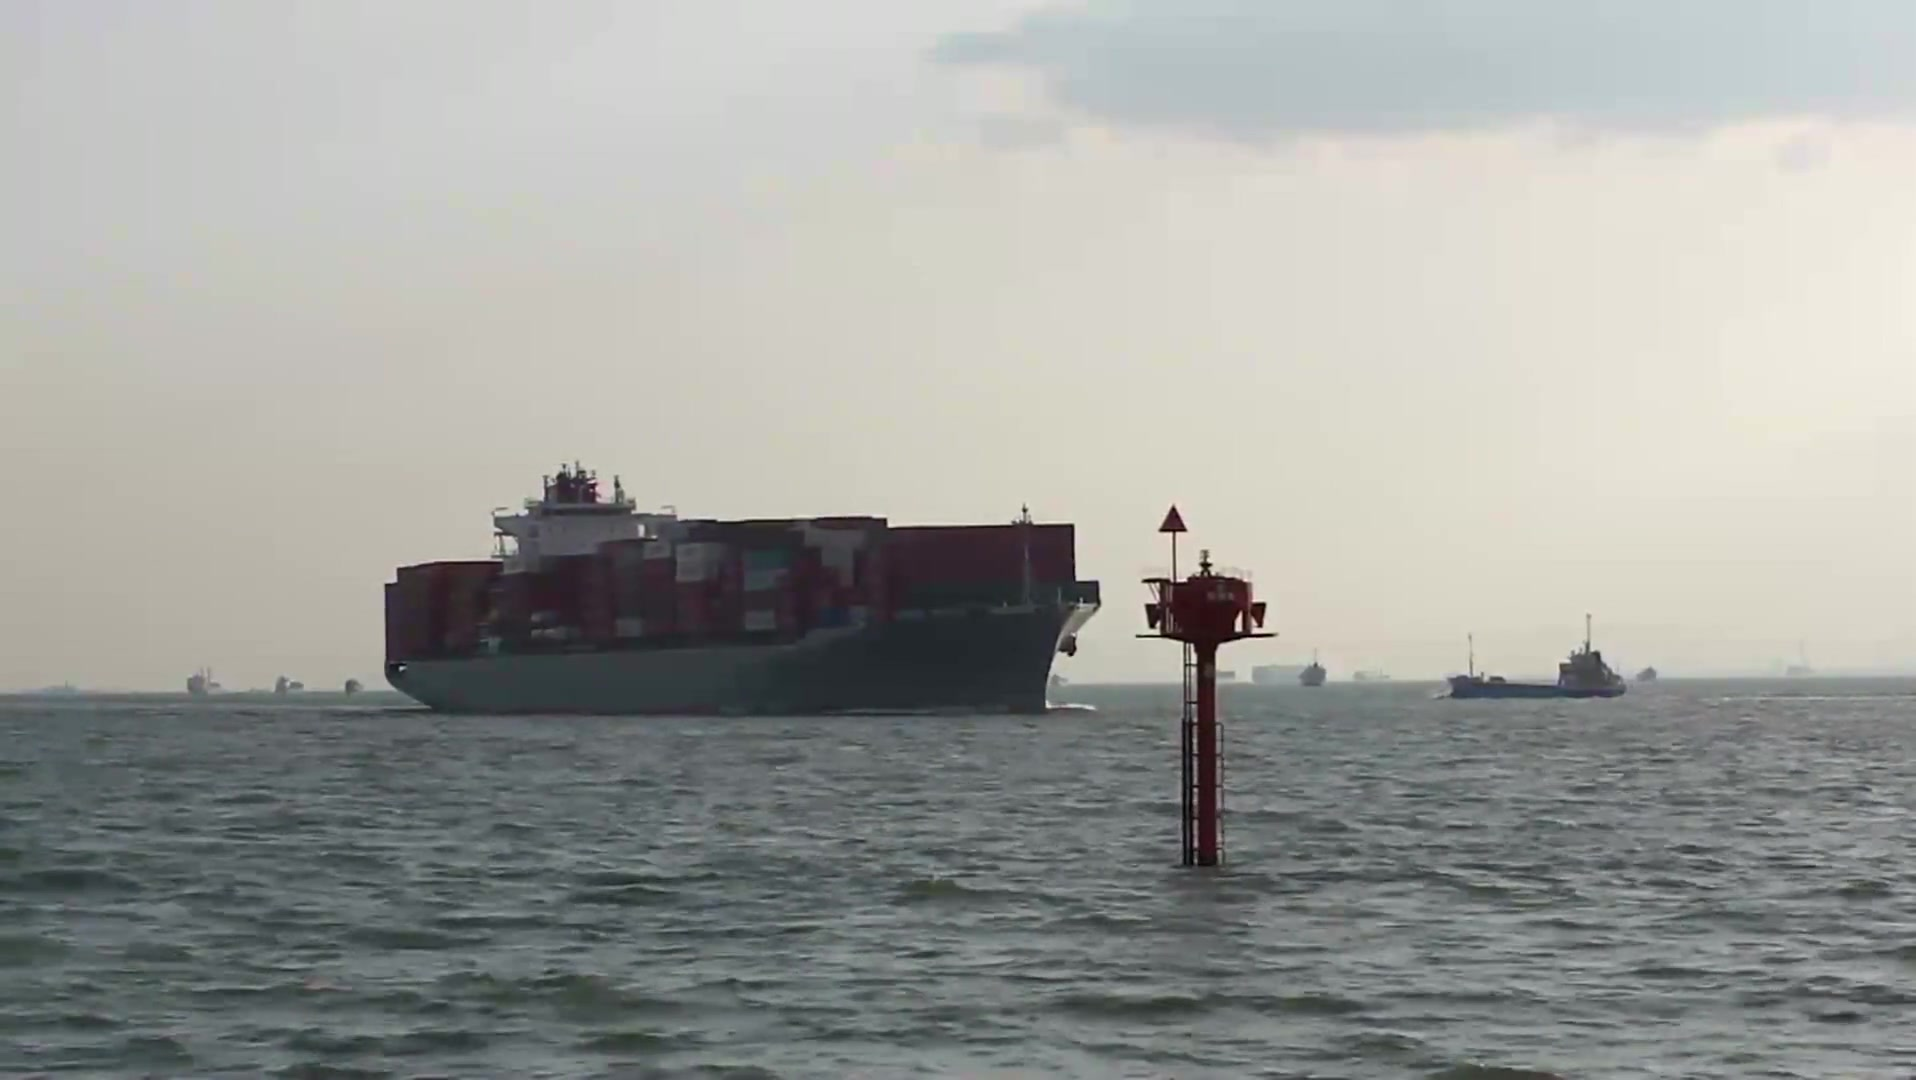boat: (386, 463, 1101, 721), (1440, 609, 1634, 705), (1246, 652, 1337, 699), (271, 664, 317, 701), (178, 662, 220, 695), (341, 676, 383, 706)
